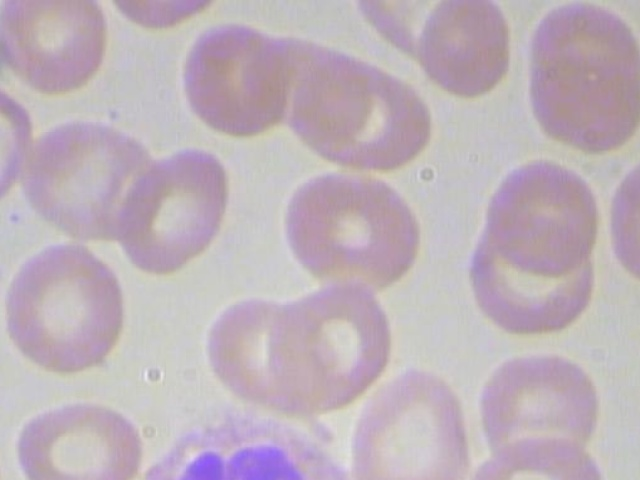RBC: (268, 161, 429, 303), (112, 141, 244, 280), (0, 239, 129, 378), (479, 341, 609, 475), (466, 212, 596, 346), (339, 360, 477, 480), (480, 153, 604, 276), (173, 18, 292, 139), (527, 40, 640, 162), (0, 0, 116, 101), (9, 399, 143, 480), (415, 0, 512, 98), (460, 429, 607, 480), (0, 77, 50, 223), (605, 142, 640, 290), (103, 0, 242, 31), (0, 410, 17, 480)
WBC: (107, 405, 379, 480)
